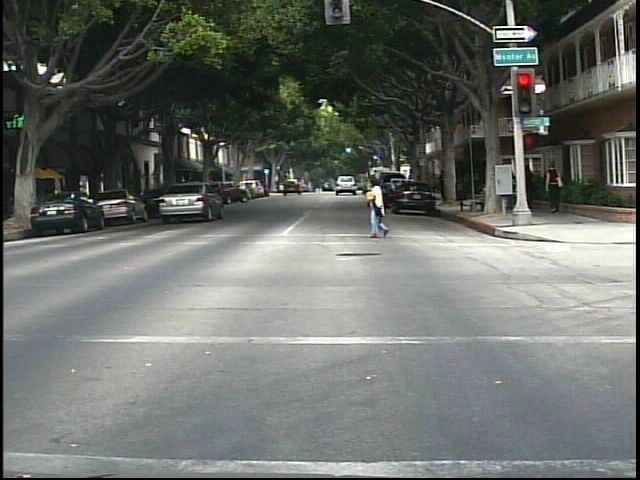person: (361, 174, 398, 242), (544, 158, 567, 219), (520, 158, 541, 216)
